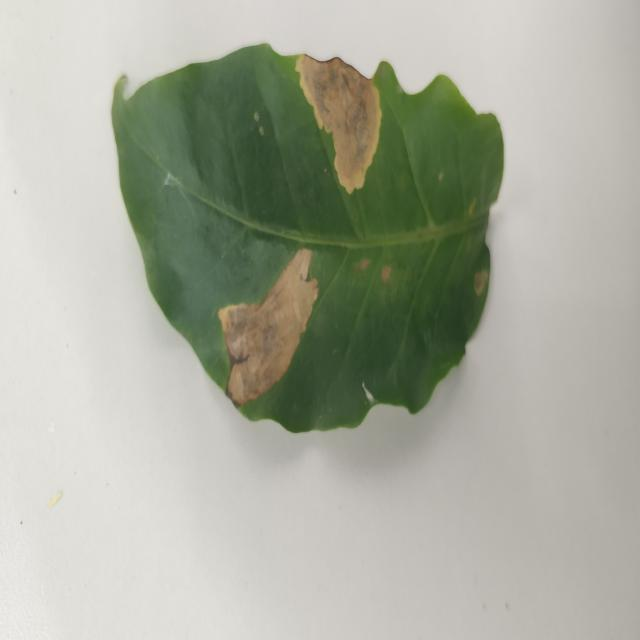Plaga-Minador: (110, 44, 506, 436)
